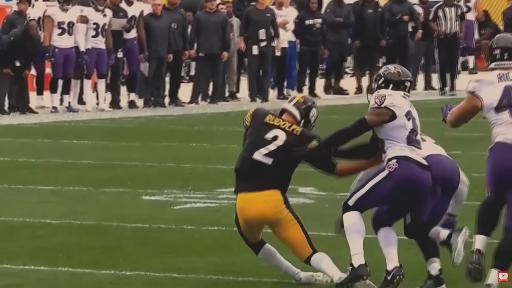Helmet: (279, 95, 318, 130), (374, 64, 413, 94), (487, 33, 512, 69), (89, 0, 107, 12), (58, 0, 73, 9)
Jersey: (235, 108, 319, 194), (370, 90, 427, 164), (467, 71, 511, 143), (45, 6, 81, 47), (84, 9, 112, 49), (120, 0, 144, 38), (27, 2, 46, 40), (421, 135, 449, 157)
Player: (235, 96, 379, 282), (319, 65, 433, 287), (442, 34, 511, 287), (422, 135, 469, 233), (421, 135, 469, 229), (44, 0, 81, 112), (79, 0, 114, 111), (120, 0, 146, 107), (27, 0, 49, 108)
